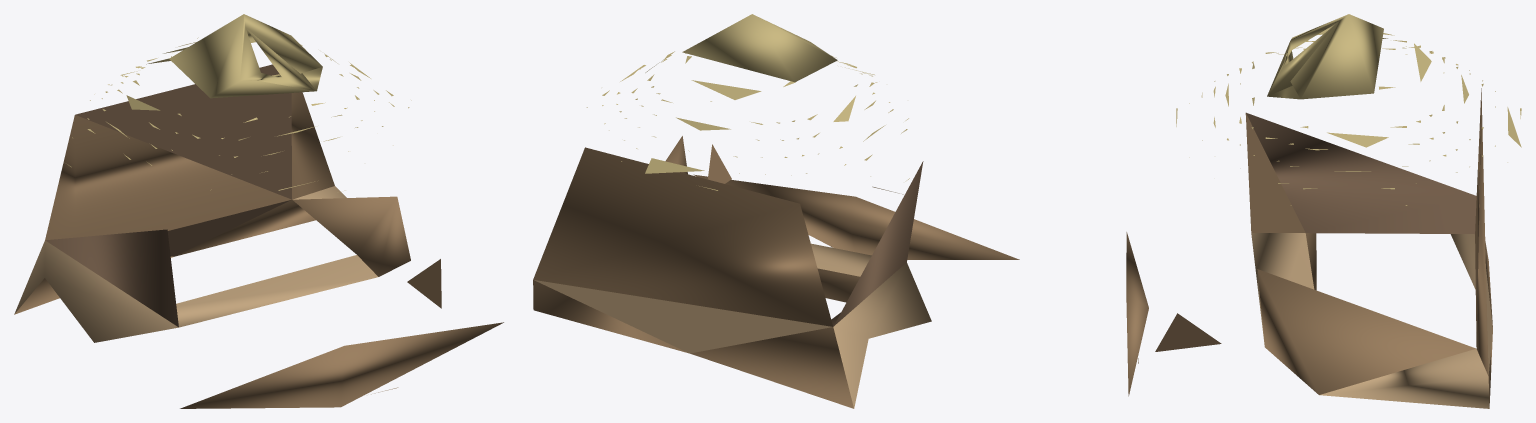
Rendered from poi_stilt_outpost_lods.7a454e3d.glb.
3 renders of one model, left to right at view 1: azimuth 30°, elevation 25°; view 2: azimuth 150°, elevation 25°; view 3: azimuth 270°, elevation 25°, orthographic. The views are drawn at different scales.
Visible parts, largest first — view 1: poi_stilt_outpost_far; view 2: poi_stilt_outpost_far; view 3: poi_stilt_outpost_far.
Boxes of the visible parts, bbox=[...] form: poi_stilt_outpost_far: bbox=[14, 14, 503, 408]; poi_stilt_outpost_far: bbox=[533, 14, 1019, 408]; poi_stilt_outpost_far: bbox=[1126, 14, 1521, 408].
Size of what is drawn, in the model's own units: 5.24 by 4.89 by 6.01.
